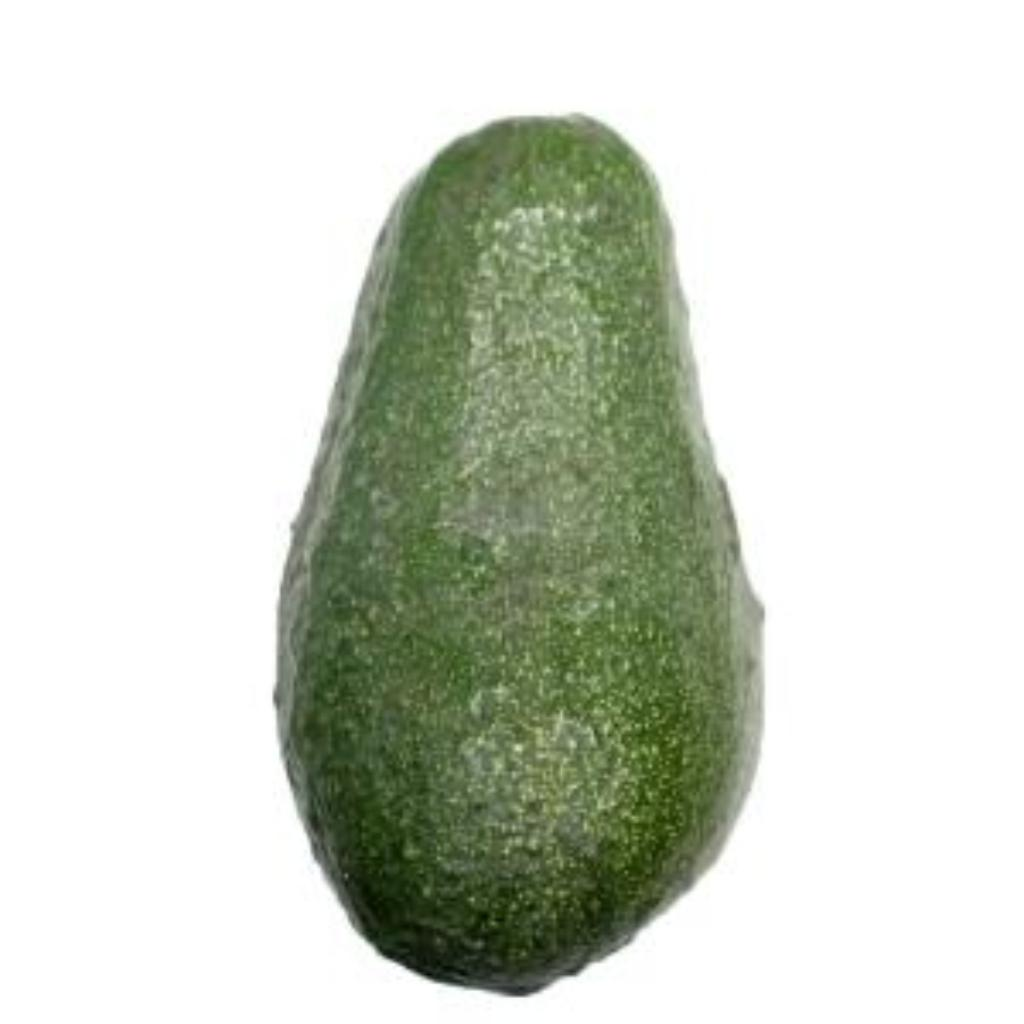cercospora_spot: (259, 98, 785, 1004)
